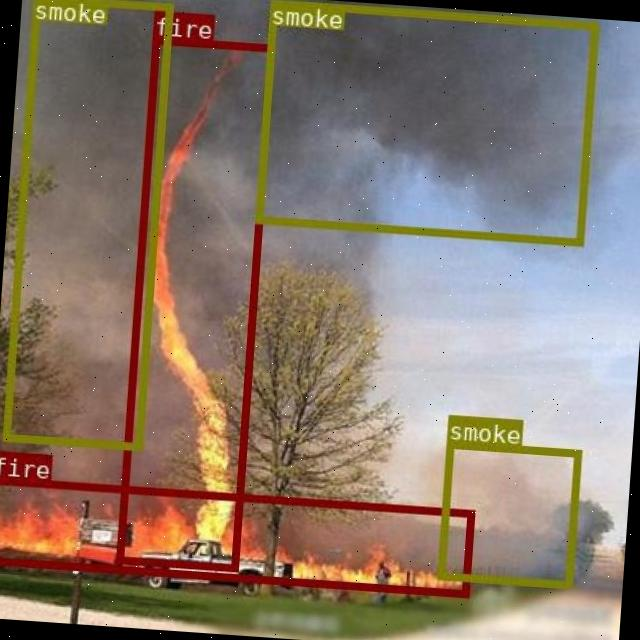fire: (115, 34, 272, 568), (0, 474, 472, 596)
smoke: (253, 0, 597, 244), (2, 0, 171, 448), (436, 439, 580, 586)
